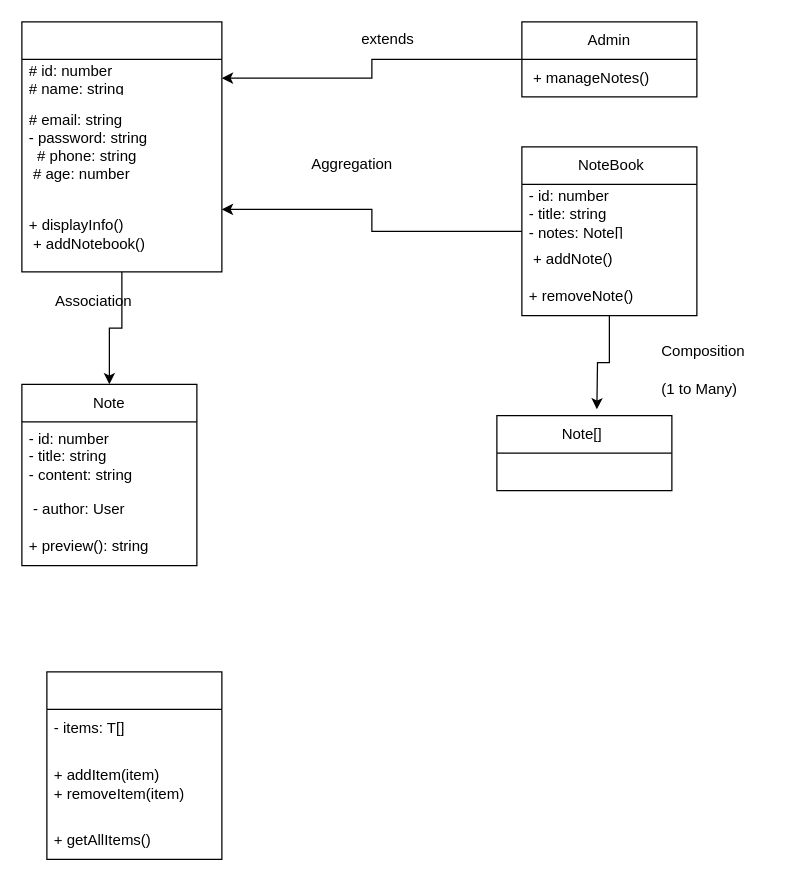
This 806x881 diagram has some shape labels left out. Each missing label, with the box of its shape:
Storage<T>: (46, 671, 222, 859)
User: (21, 21, 222, 272)
